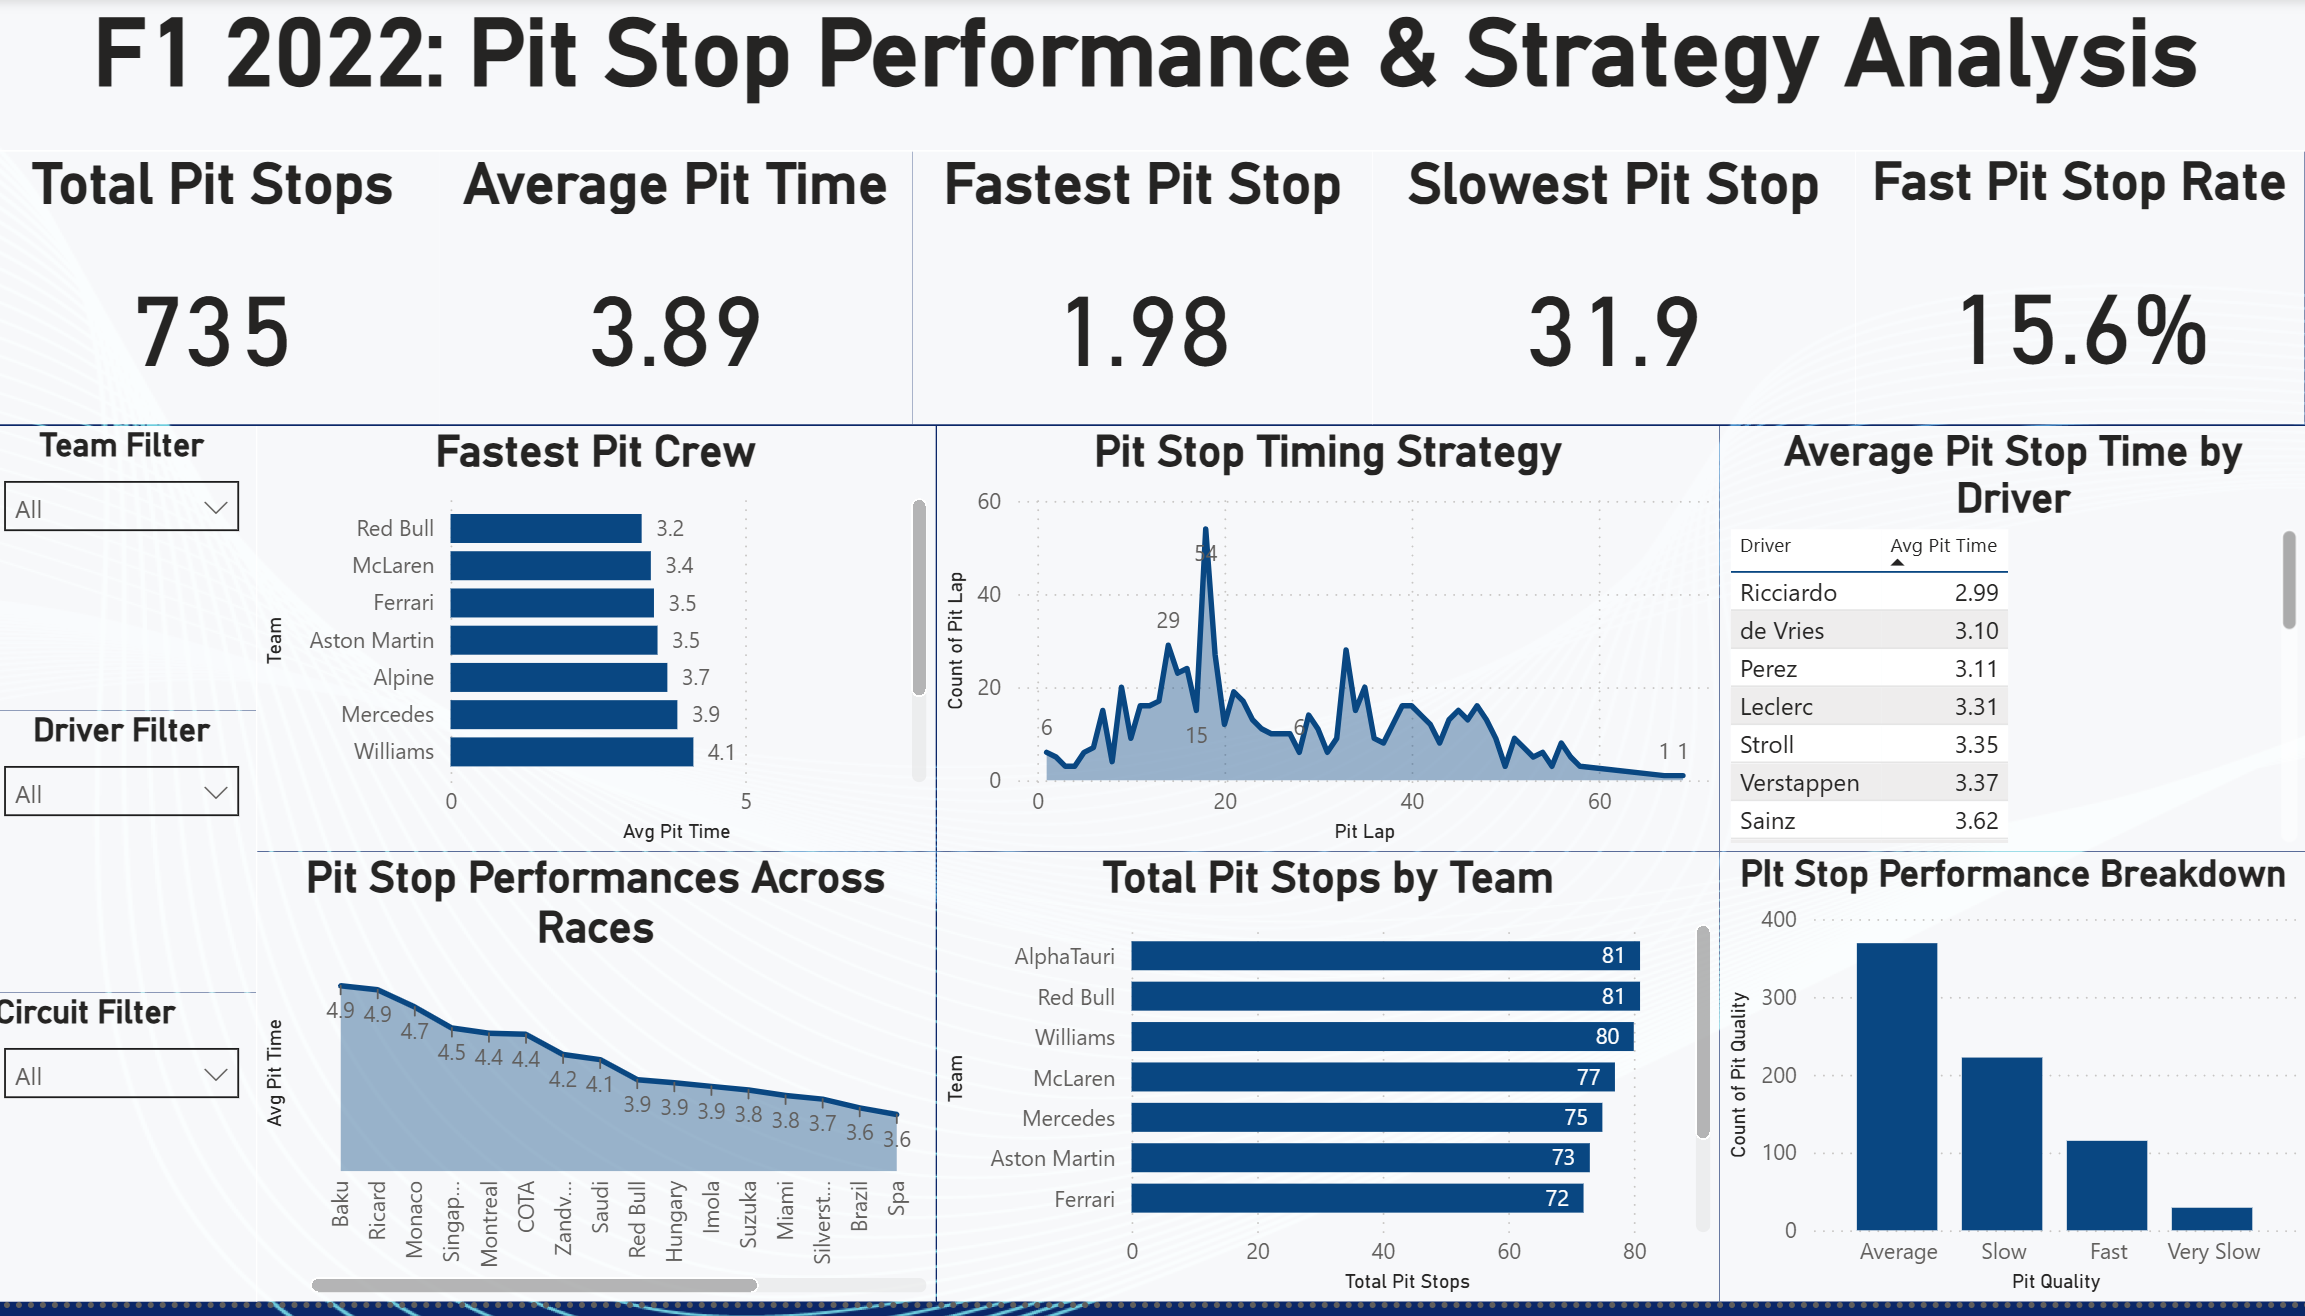

This screenshot's page, from the dashboard's own definition file:
{"tool":"powerbi","page":{"name":"Page 1","canvas":[1280,720],"ordinal":0},"visuals":[{"type":"card","title":"Average Pit Time","fields":{"Values":["F12022PitStops.Avg Pit Time"]},"box":[249.9,85.2,261.3,151.5],"z":0},{"type":"card","title":"Fastest Pit Stop","fields":{"Values":["F12022PitStops.Fastest Pit Stop"]},"box":[511.2,85.2,253.7,151.5],"z":1000},{"type":"card","title":"Slowest Pit Stop","fields":{"Values":["F12022PitStops.Slowest Pit Stop"]},"box":[765,85.2,267,151.5],"z":2000},{"type":"barChart","title":"Fastest Pit Crew","fields":{"Category":["F12022PitStops.Team"],"Y":["F12022PitStops.Avg Pit Time"]},"box":[149.6,236.7,374.9,234.8],"z":3000},{"type":"card","title":"Fast Pit Stop Rate","fields":{"Values":["F12022PitStops.Fast Pit Percentage"]},"box":[1032,85.2,248,151.5],"z":4000},{"type":"lineChart","title":"Pit Stop Performances Across Races","fields":{"Y":["F12022PitStops.Avg Pit Time"],"Category":["F12022PitStops.Grand Prix"]},"box":[149.6,471.5,374.9,248],"z":5000},{"type":"columnChart","title":"PIt Stop Performance Breakdown","fields":{"Category":["F12022PitStops.Pit Quality"],"Y":["CountNonNull(F12022PitStops.Pit Quality)"]},"box":[956.2,471.5,323.8,248],"z":6000},{"type":"areaChart","title":"Pit Stop Timing Strategy","fields":{"Category":["F12022PitStops.Pit Lap"],"Y":["CountNonNull(F12022PitStops.Pit Lap)"]},"box":[524.5,236.7,431.7,234.8],"z":7000},{"type":"tableEx","title":"Average Pit Stop Time by Driver","fields":{"Values":["F12022PitStops.Driver","F12022PitStops.Avg Pit Time"]},"box":[956.2,236.7,323.8,234.8],"z":8000},{"type":"card","title":"Total Pit Stops","fields":{"Values":["F12022PitStops.Total Pit Stops"]},"box":[0,85.2,249.9,151.5],"z":9000},{"type":"barChart","fields":{"Category":["F12022PitStops.Team"],"Y":["F12022PitStops.Total Pit Stops"]},"box":[524.5,471.5,431.7,248],"z":10000},{"type":"slicer","title":"Team Filter","fields":{"Values":["F12022PitStops.Team"]},"box":[0,236.7,149.6,157.2],"z":11000},{"type":"slicer","title":"Driver Filter","fields":{"Values":["F12022PitStops.Driver"]},"box":[0,393.8,149.6,155.3],"z":12000},{"type":"slicer","title":"Circuit Filter","fields":{"Values":["F12022PitStops.Grand Prix"]},"box":[0,549.1,149.6,170.4],"z":13000},{"type":"shape","title":"F1 2022: Pit Stop Performance & Strategy Analysis","box":[0,0,1280,85.2],"z":14000}]}

Visuals, with their boxes in screenshot pixels (x1, y1, x2, y2), scaled from the page's 1280x720 canvas onto the 2305x1316 screenshot:
"Average Pit Time" card: region(450, 156, 921, 433)
"Fastest Pit Stop" card: region(921, 156, 1377, 433)
"Slowest Pit Stop" card: region(1378, 156, 1858, 433)
"Fastest Pit Crew" barChart: region(269, 433, 945, 862)
"Fast Pit Stop Rate" card: region(1858, 156, 2304, 433)
"Pit Stop Performances Across Races" lineChart: region(269, 862, 945, 1315)
"PIt Stop Performance Breakdown" columnChart: region(1722, 862, 2304, 1315)
"Pit Stop Timing Strategy" areaChart: region(945, 433, 1722, 862)
"Average Pit Stop Time by Driver" tableEx: region(1722, 433, 2304, 862)
"Total Pit Stops" card: region(0, 156, 450, 433)
barChart - F12022PitStops.Team x F12022PitStops.Total Pit Stops: region(945, 862, 1722, 1315)
"Team Filter" slicer: region(0, 433, 269, 720)
"Driver Filter" slicer: region(0, 720, 269, 1004)
"Circuit Filter" slicer: region(0, 1004, 269, 1315)
"F1 2022: Pit Stop Performance & Strategy Analysis" shape: region(0, 0, 2304, 156)
